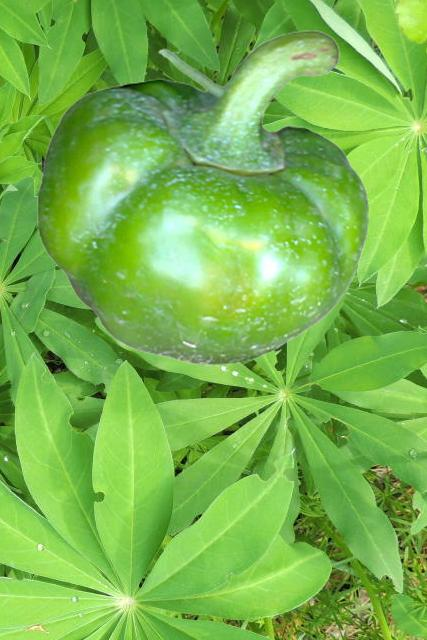bell_pepper: (37, 29, 368, 364)
